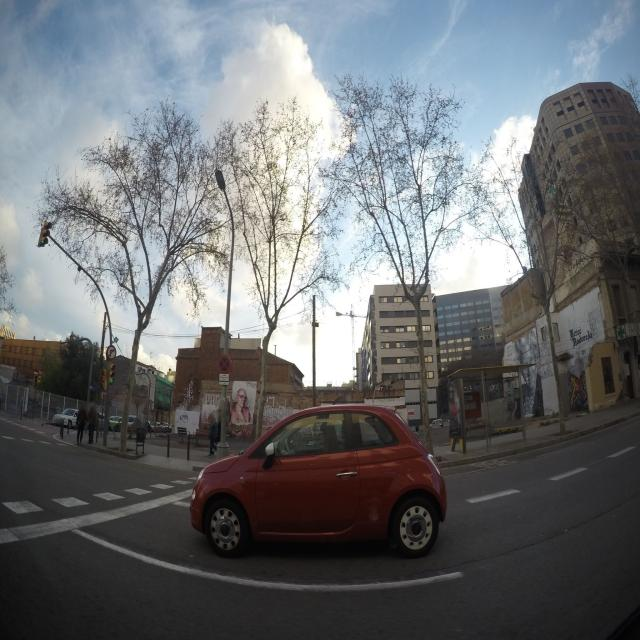car: (189, 402, 448, 561), (52, 407, 78, 428), (126, 414, 144, 433), (108, 415, 122, 432)
